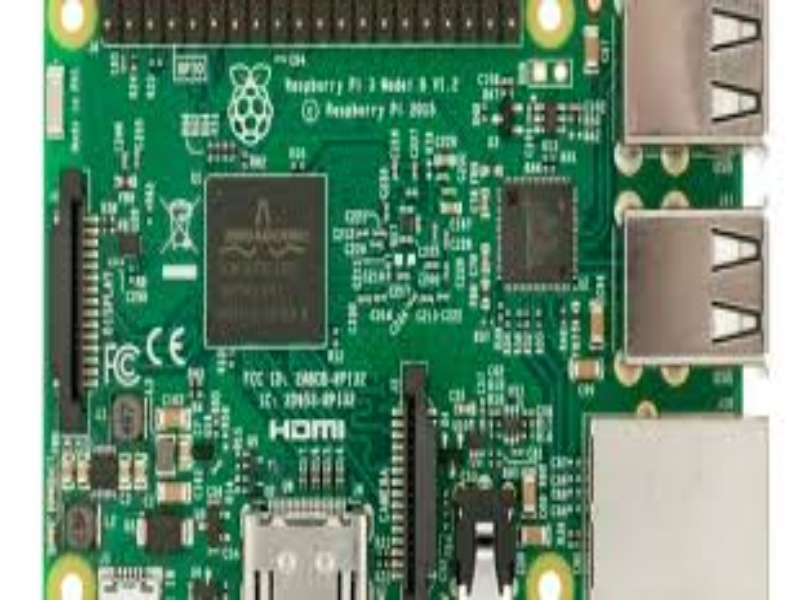raspberrypi: (41, 3, 779, 596)
